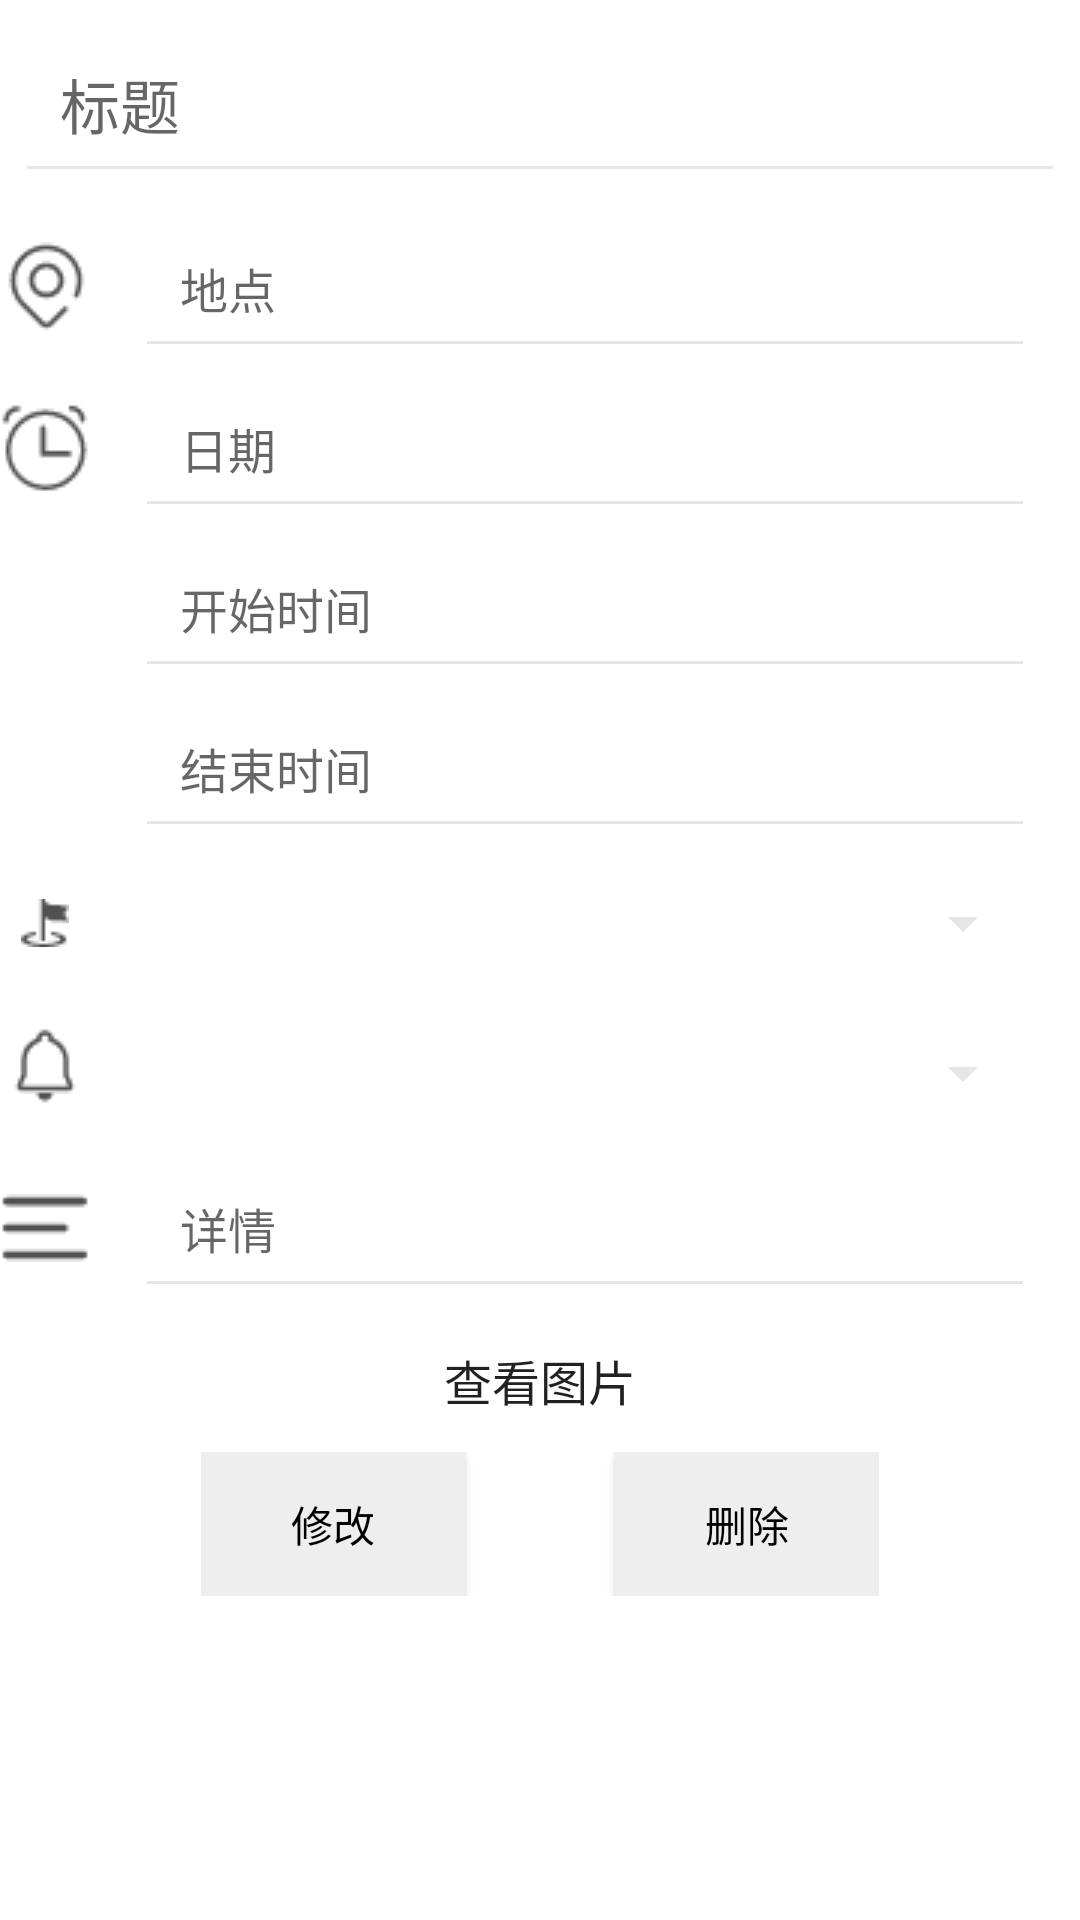

Named icons in this screenshot (1080px x 1920px) and their centers, (x,y):
place: (46,286)
remandd: (45,1066)
time: (45,448)
